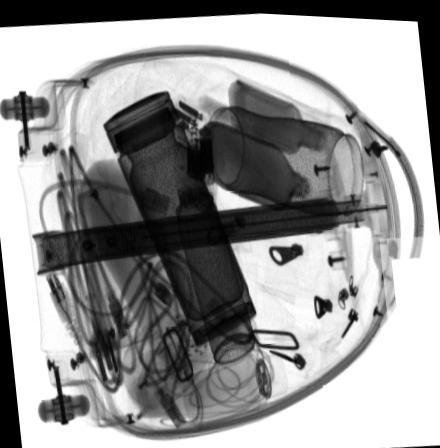Sprayer: (178, 183, 256, 359)
